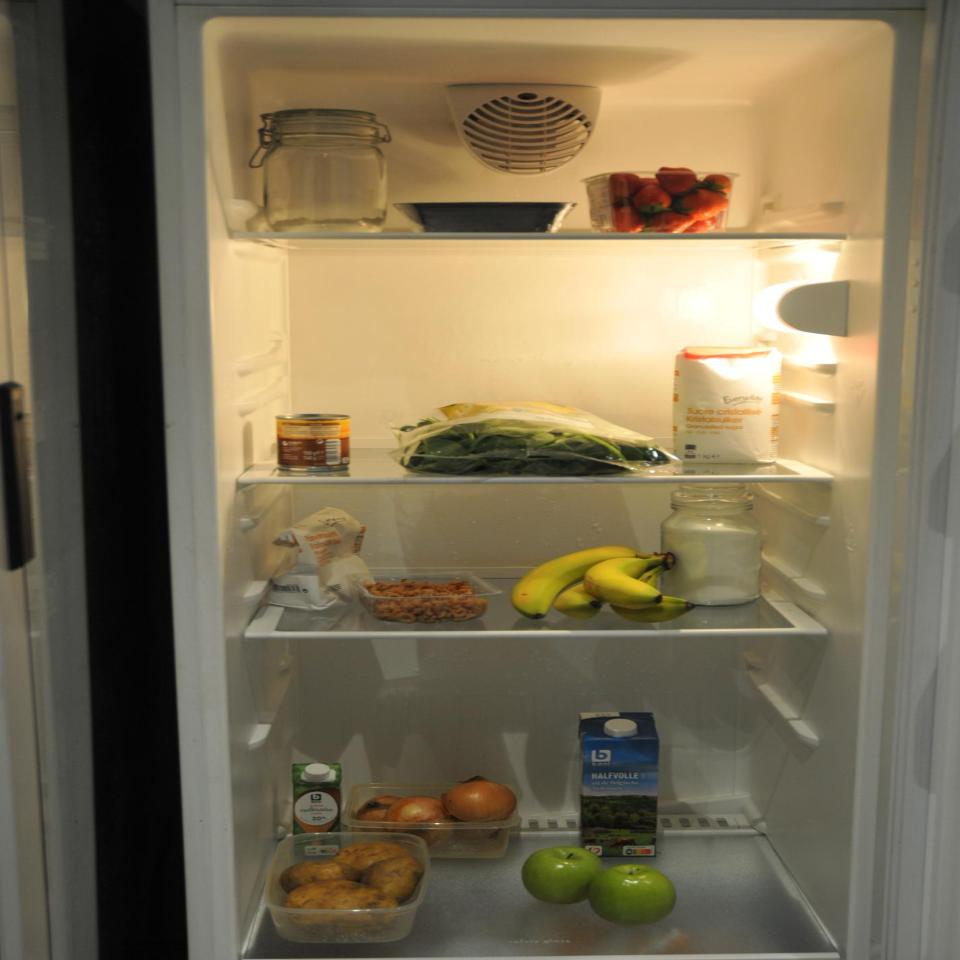Leche: (575, 705, 669, 860)
Manzana: (519, 845, 681, 926)
Plátano: (509, 544, 699, 625)
strawberries: (580, 167, 745, 234)
